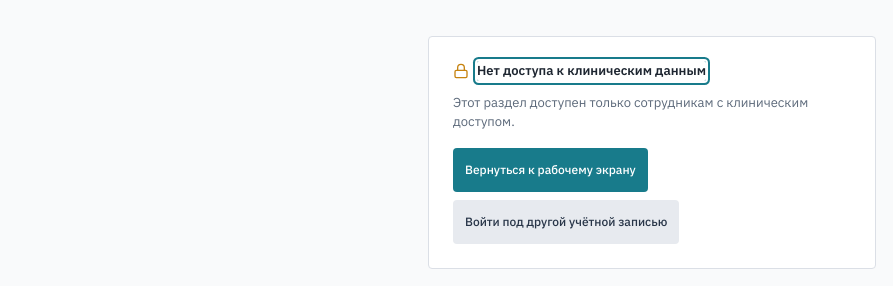
Test: RoleGuard · production self-hosted mode › returns a blocked operator to the operator home without implying doctor-only access
Check: the text "Этот раздел доступен только сотрудникам с клиническим доступом." is shown, box [453,92,851,132]
Click the button "Вернуться к рабочему экрану" at [550, 170], box [453,148,648,192]
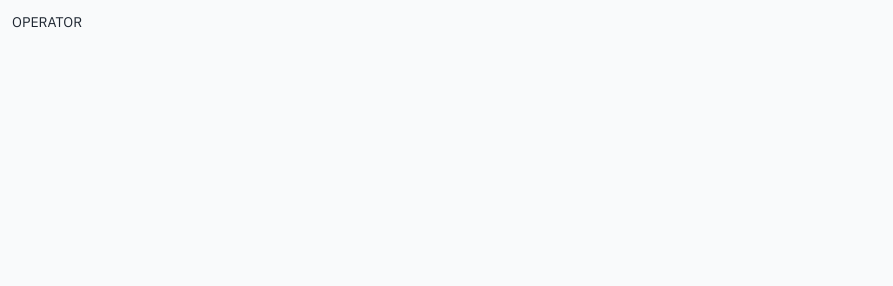
Check: the text "OPERATOR" is shown, box [12,13,82,31]
